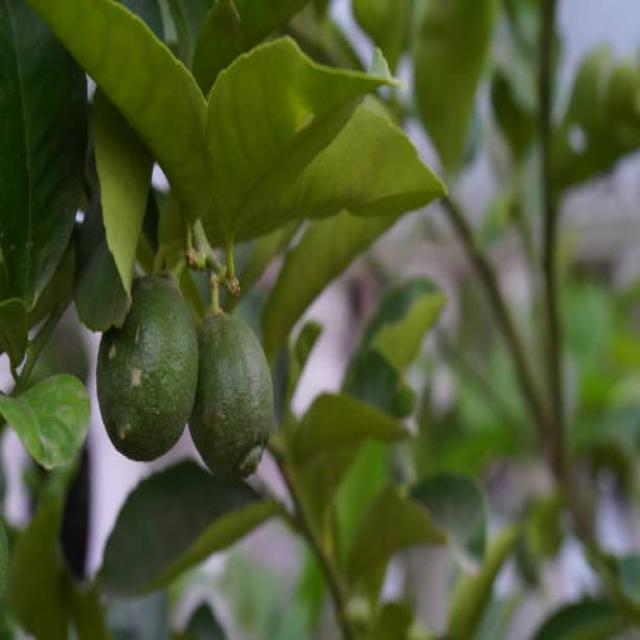Unripe: (97, 271, 200, 459), (192, 309, 274, 484)
